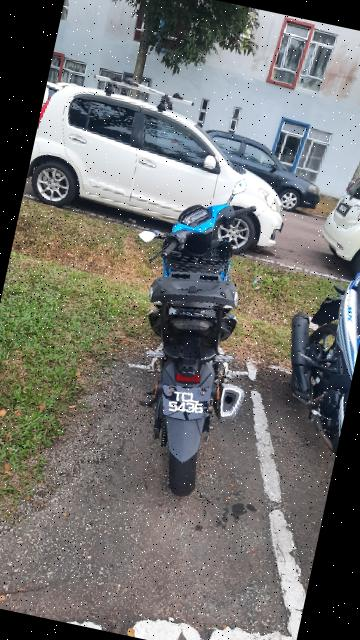License_Plate: (154, 376, 225, 432)
car: (23, 72, 307, 265), (322, 159, 360, 283)
motorcycle: (87, 161, 320, 518), (269, 235, 360, 460)
